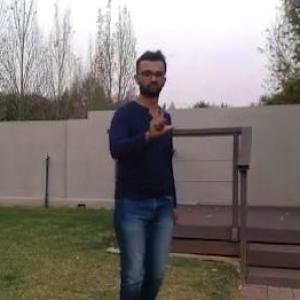land_hand: (144, 102, 175, 136)
